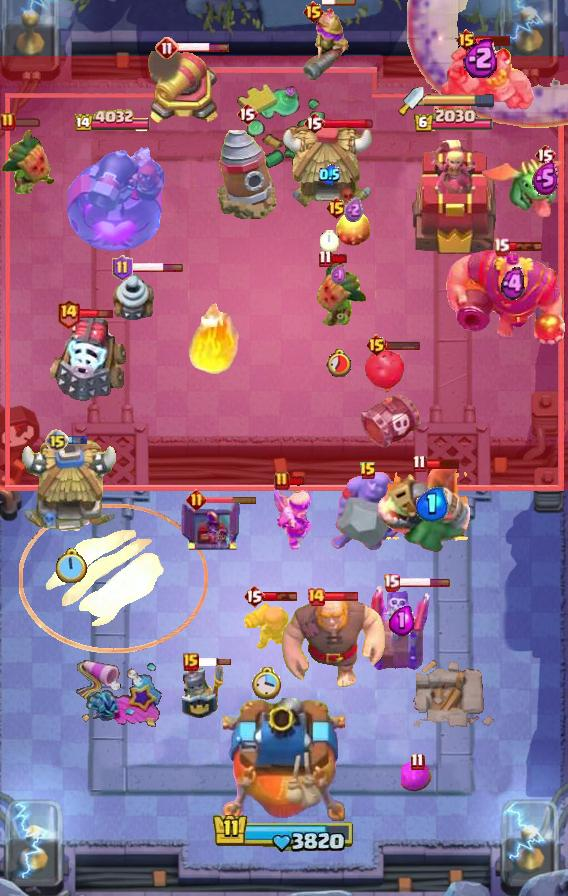archer-queen: (327, 469, 409, 553)
arrows: (274, 485, 315, 551)
balloon: (279, 595, 385, 691)
bar: (409, 138, 497, 256)
bomb-tower: (298, 6, 354, 84)
cannoneer-tower: (428, 43, 534, 127)
clock: (212, 812, 356, 854)
electro-spirit: (464, 37, 501, 78), (415, 487, 448, 521), (533, 161, 560, 195), (389, 604, 415, 636), (501, 267, 525, 301), (344, 197, 363, 223), (320, 163, 341, 184), (332, 264, 349, 286)
electro-wizard: (478, 155, 568, 221)
elixir: (53, 548, 86, 586), (252, 667, 282, 701), (327, 348, 354, 377), (320, 230, 340, 252)
emote: (322, 118, 374, 131), (176, 42, 230, 53), (130, 262, 184, 273), (397, 577, 451, 588), (423, 457, 461, 470), (204, 496, 258, 505), (475, 34, 512, 47), (78, 307, 114, 320), (5, 116, 41, 128), (385, 339, 421, 351), (263, 590, 299, 602), (508, 241, 543, 252), (325, 591, 360, 602), (196, 657, 232, 667), (322, 0, 358, 7), (66, 434, 88, 445), (288, 475, 308, 487), (331, 253, 350, 265)
goblin-barrel: (0, 127, 58, 197), (310, 258, 368, 328)
goblin-drill: (111, 268, 157, 322)
golem: (46, 312, 128, 404)
hog: (336, 209, 370, 247)
ice-spirit-evolution-symbol: (179, 499, 243, 553)
ice-wizard: (20, 503, 208, 652)
king-tower: (223, 698, 345, 826)
king-tower-bar: (424, 93, 496, 107)
lightning: (445, 248, 567, 348)
magic-archer: (214, 125, 280, 223)
miner: (401, 762, 433, 792)
night-witch: (376, 461, 488, 557)
prince: (19, 440, 121, 536), (282, 120, 376, 210)
princess: (180, 659, 226, 721)
rocket: (408, 0, 568, 128)
royal-recruit: (145, 51, 223, 127)
royal-recruit-evolution: (358, 348, 424, 452)
selected: (414, 108, 495, 134), (75, 110, 153, 135)
skeleton-king-bar: (371, 581, 433, 671)
text: (55, 298, 80, 329), (155, 36, 179, 60), (45, 429, 69, 453), (303, 0, 326, 24), (455, 28, 478, 52), (324, 196, 347, 220), (365, 333, 388, 357), (112, 255, 133, 281), (236, 102, 258, 126), (303, 111, 325, 135), (534, 143, 556, 167), (243, 584, 265, 608), (185, 490, 206, 511), (306, 587, 326, 607), (359, 461, 377, 481), (493, 237, 511, 256), (383, 573, 401, 592), (0, 112, 16, 132), (274, 471, 290, 491), (183, 653, 199, 671), (319, 248, 334, 267), (410, 752, 425, 771), (413, 455, 428, 473)
tombstone: (242, 599, 292, 651)
tower-bar: (63, 136, 165, 256)
valkyrie: (186, 289, 246, 379)
